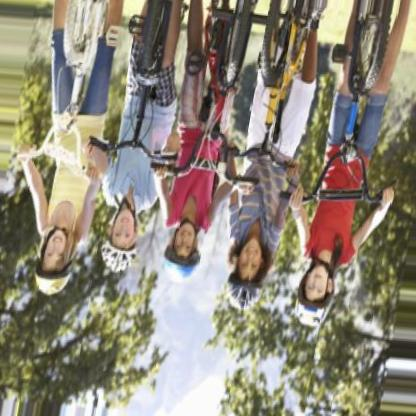with helmet: (226, 238, 270, 315), (35, 222, 76, 297), (295, 260, 338, 328), (101, 206, 141, 276), (162, 219, 202, 284)
